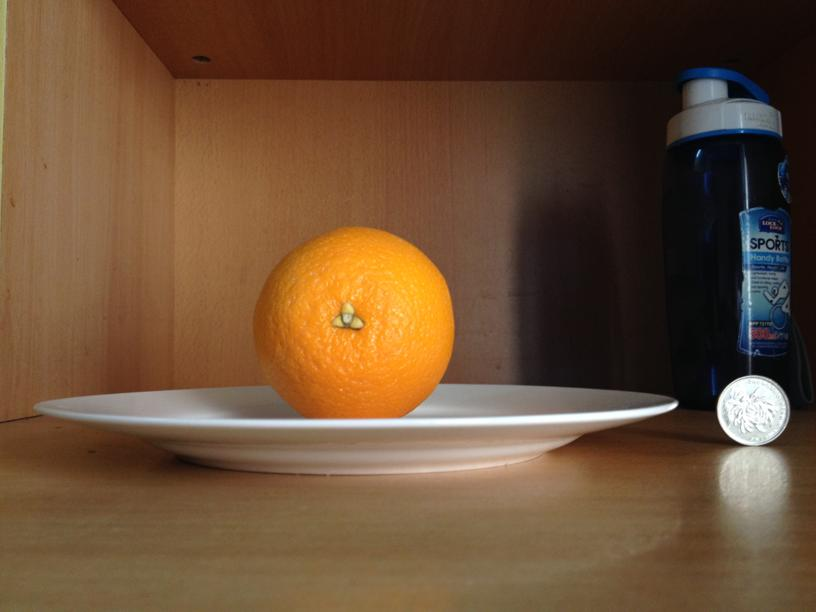coin: (717, 375, 790, 444)
orange: (251, 223, 454, 418)
